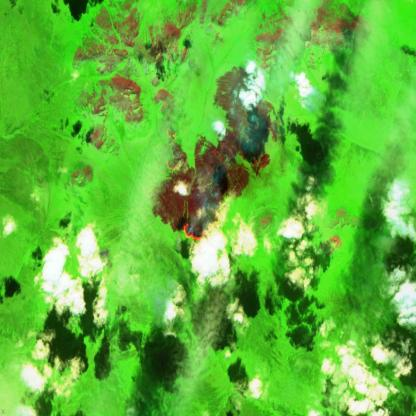fire: (158, 126, 185, 174)
